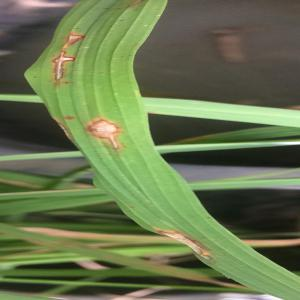Rice_Blast: (143, 223, 217, 273), (77, 112, 138, 160), (42, 41, 77, 83), (45, 110, 81, 150), (43, 25, 86, 49)
